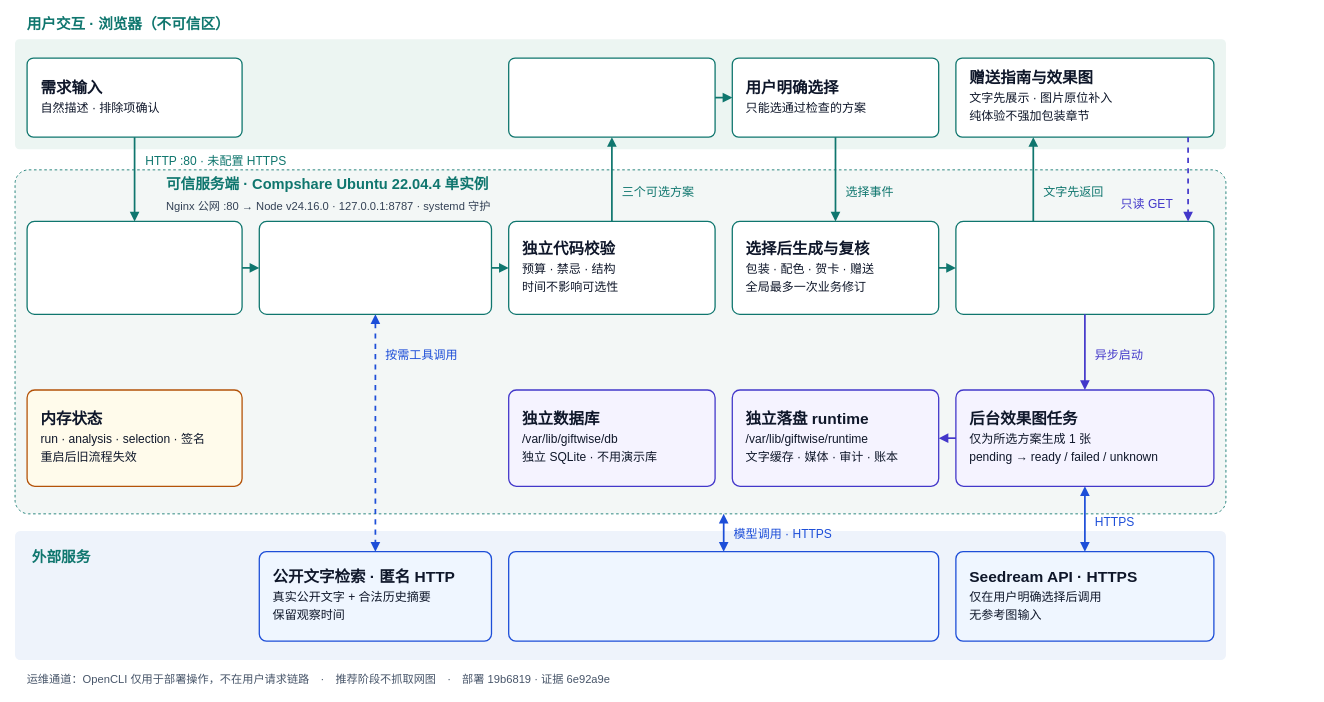
Image size: 1324x702. Some labels were removed from this diagram. The centre of each missing label's shape, as x and y in pixels:
三方案比较 依据 · 估价 · 校验结果 推荐卡不配网图: point (611, 97)
候选生成 模型按需调用检索工具 公开文字依据 → 三方案: point (375, 267)
文字响应与媒体任务 API 立即返回文字 + task_id 只读 GET 状态与图片 · 归属校验: point (1084, 267)
文字模型 API · HTTPS 解析 · 三方案 · 修订 · 赠送指南 密钥只在服务端: point (723, 596)
解析与可信上下文 自然澄清 · 保留原话 服务端固定已确认约束: point (134, 267)
